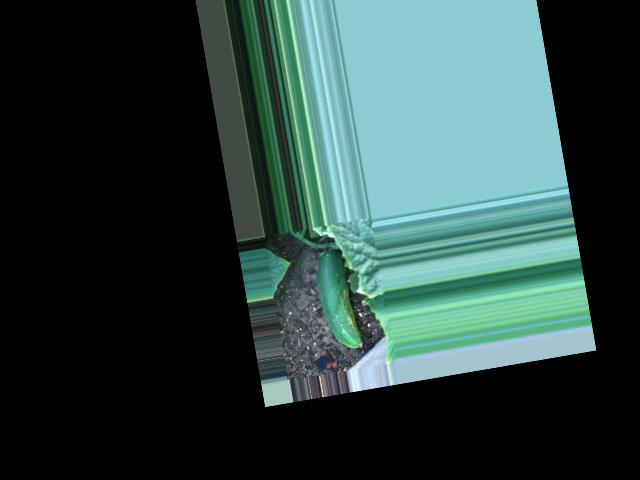cucumber: (312, 248, 363, 353)
